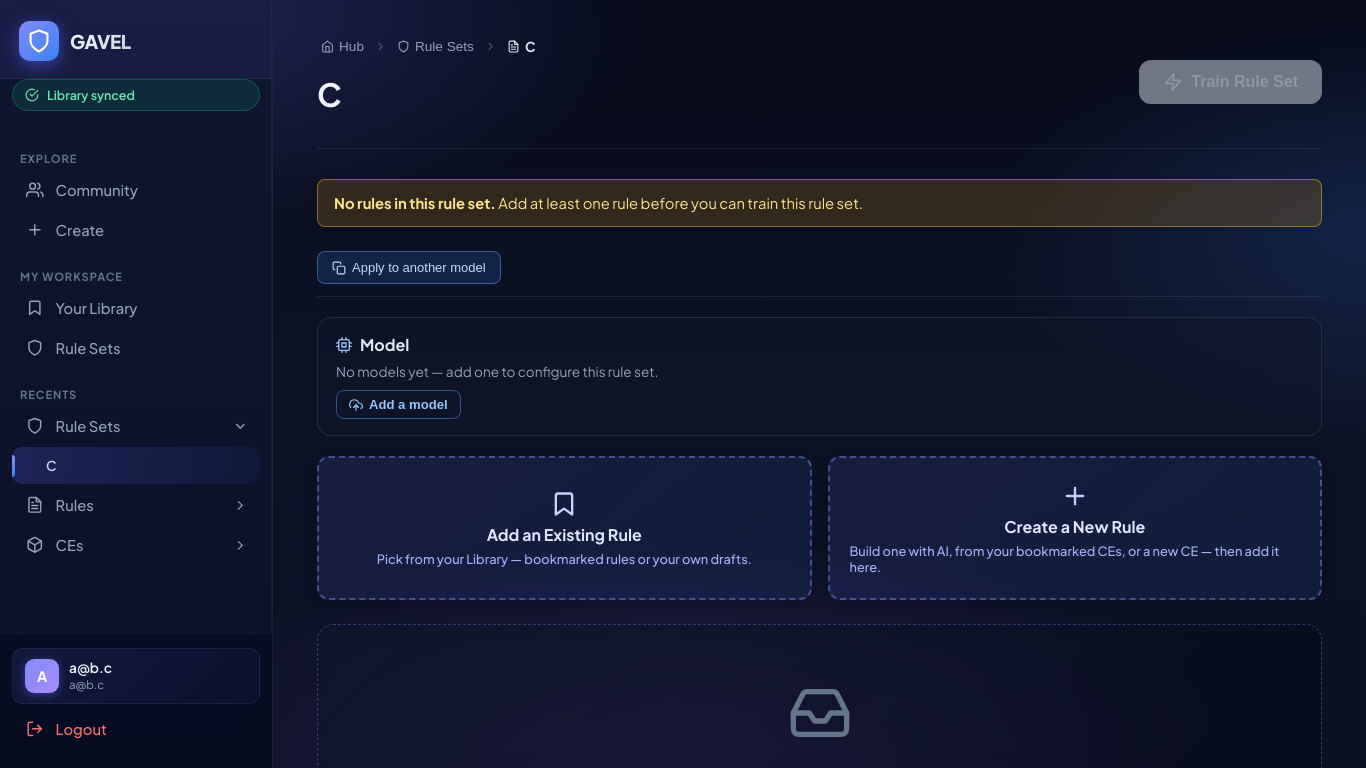
Test case: RulesManager — add existing rule modal › opens the modal from the action card and lists merged bookmarks + drafts
This screenshot has width=1366, height=768.
Click the text "Add an Existing Rule" at x=564, y=534, box left=487, top=524, right=642, bottom=545
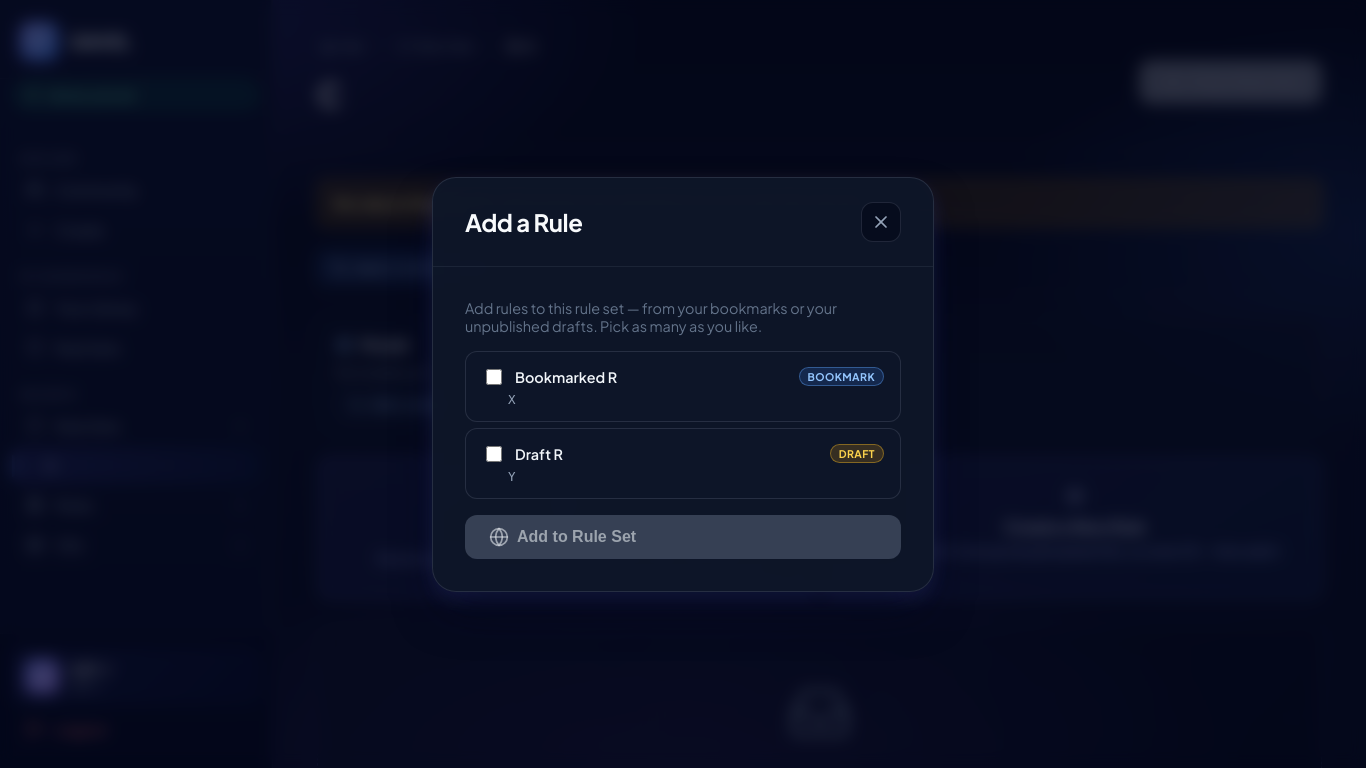
expect the text "Bookmarked R" is shown: met, box left=515, top=368, right=617, bottom=386
expect the text "Draft R" is shown: met, box left=515, top=444, right=563, bottom=462
expect the text "BOOKMARK" is shown: met, box left=799, top=367, right=884, bottom=386
